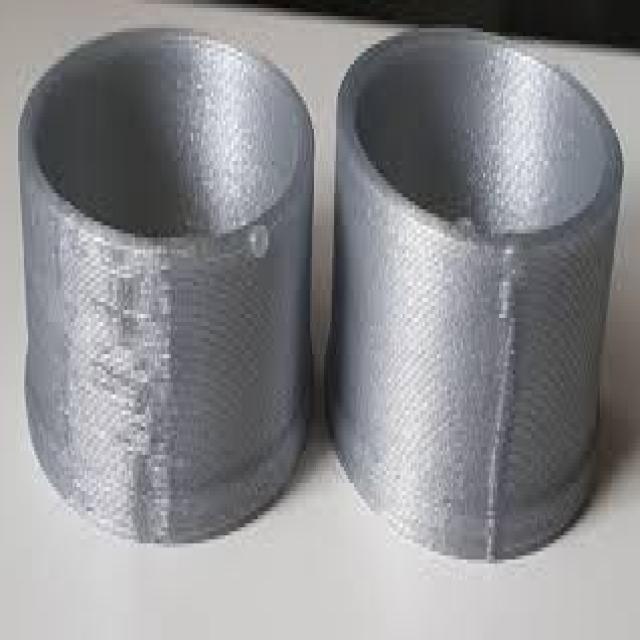blobs: (473, 231, 528, 572), (246, 202, 268, 269), (443, 220, 485, 254)
